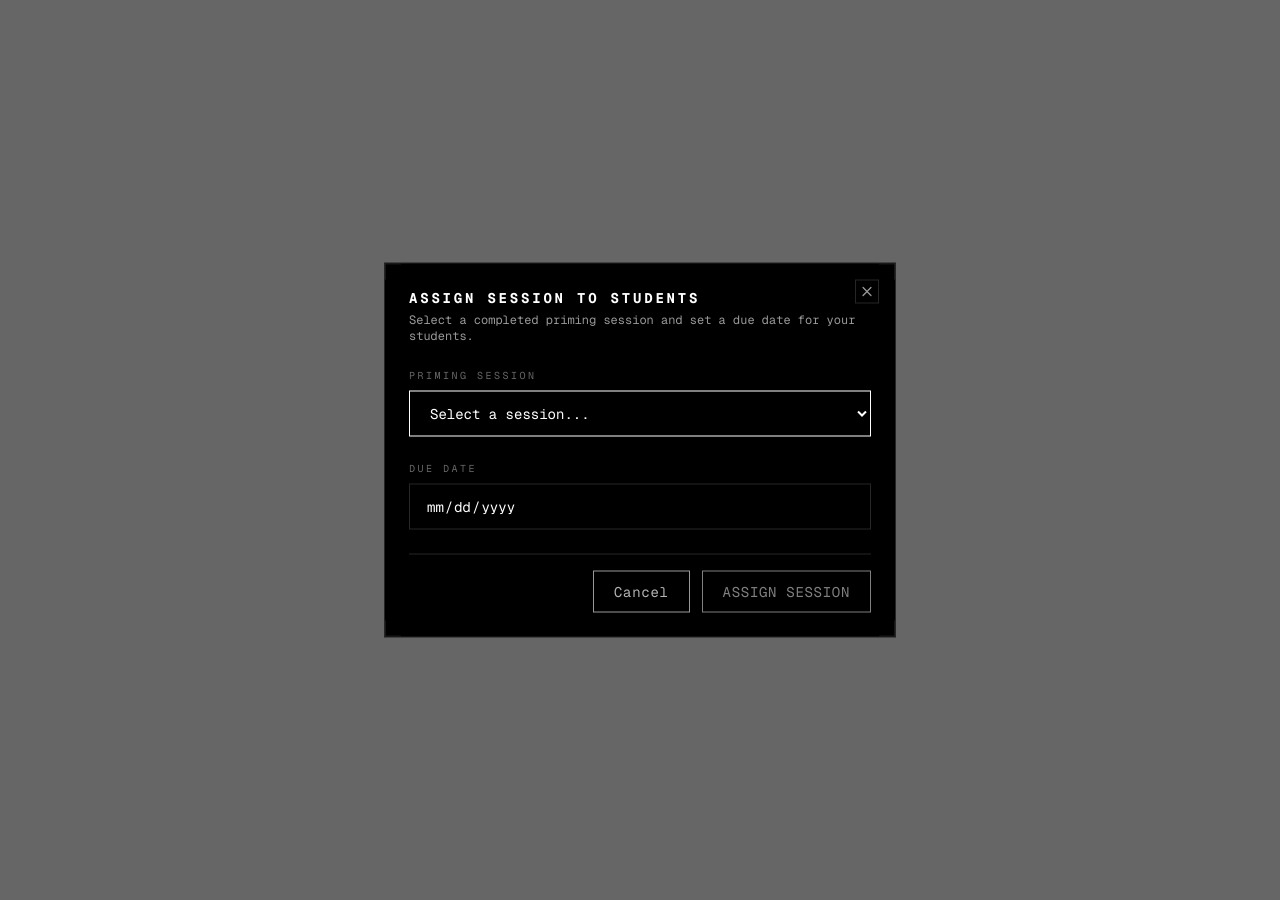
AssignSessionModal › displays API error message
This screenshot has width=1280, height=900.
Select "Session A (15 min)" in the dropdown at (640, 414), box [409,390,871,436]
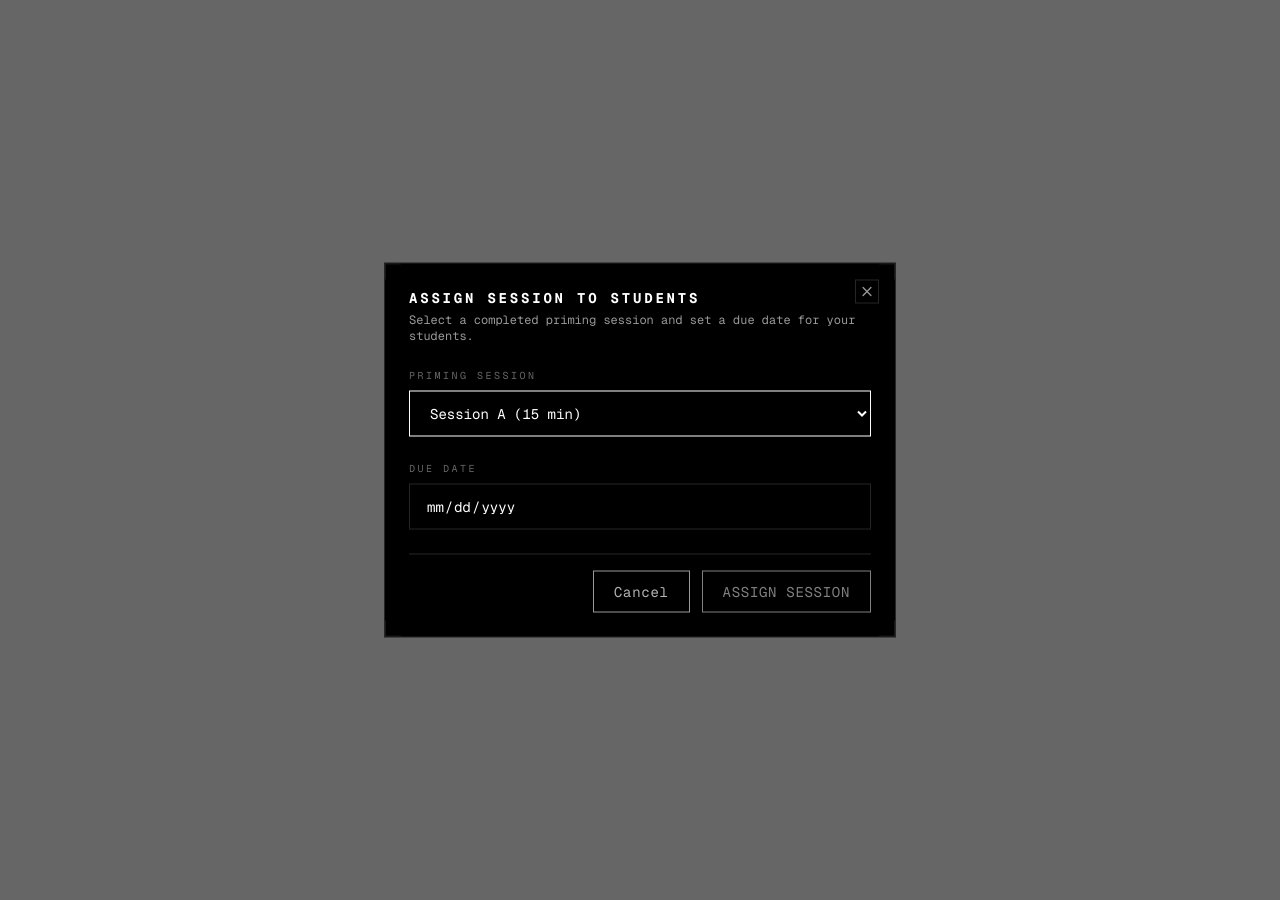
Type "2026-12-25" into the date field at (640, 506), box [409,484,871,530]
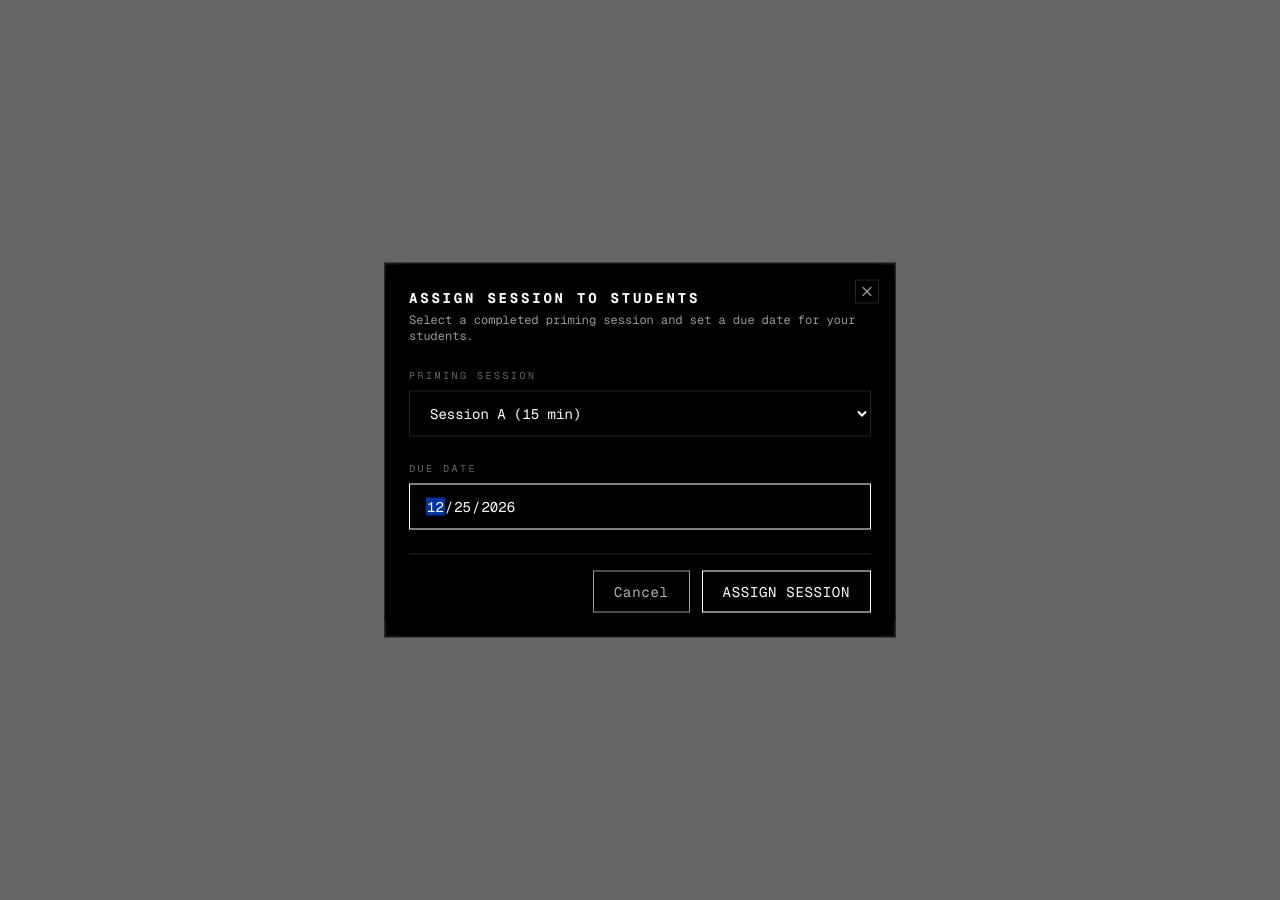
Click the button "ASSIGN SESSION" at (786, 592), box [702,570,871,612]
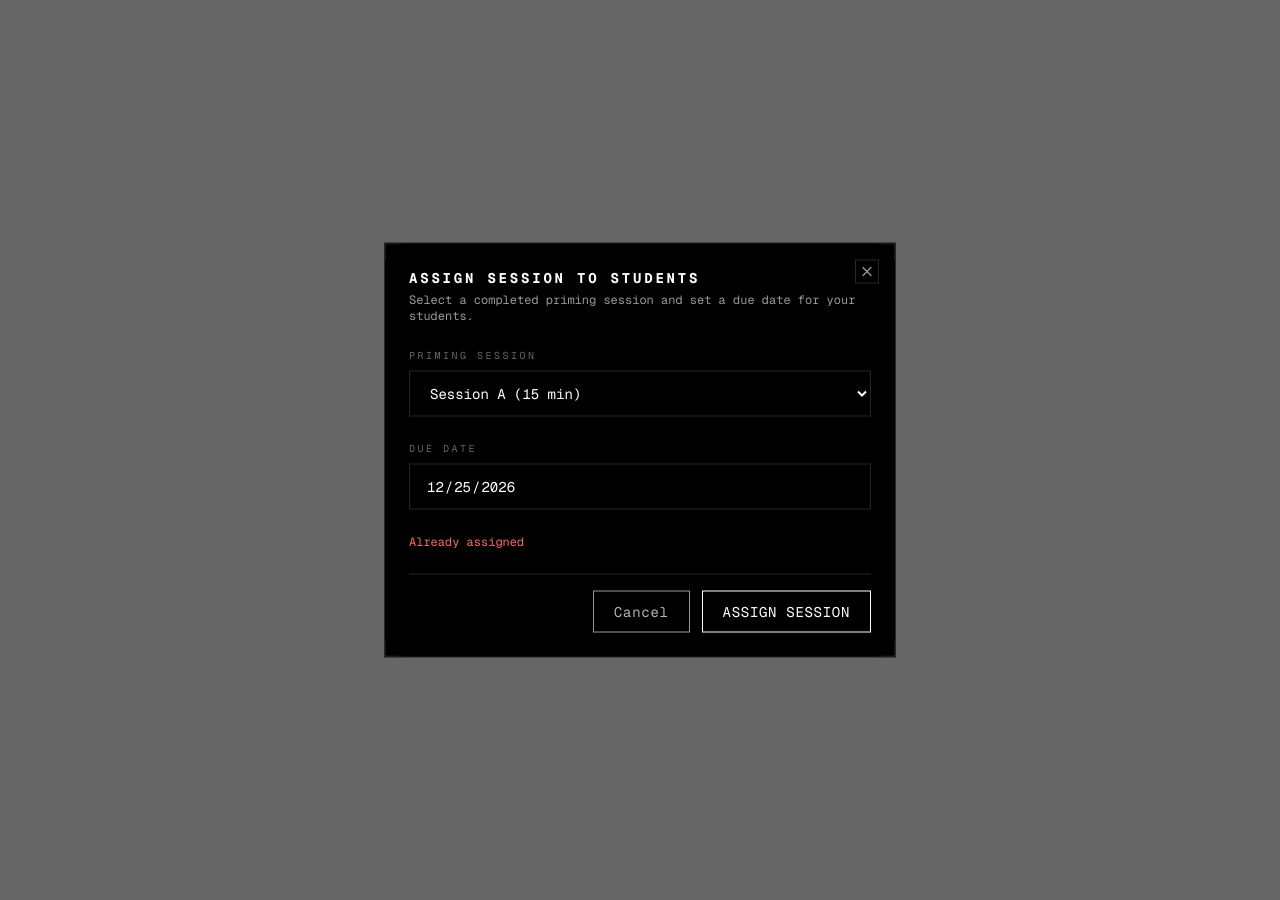
Expected: the text "Already assigned" is shown, [409,534,524,550]
